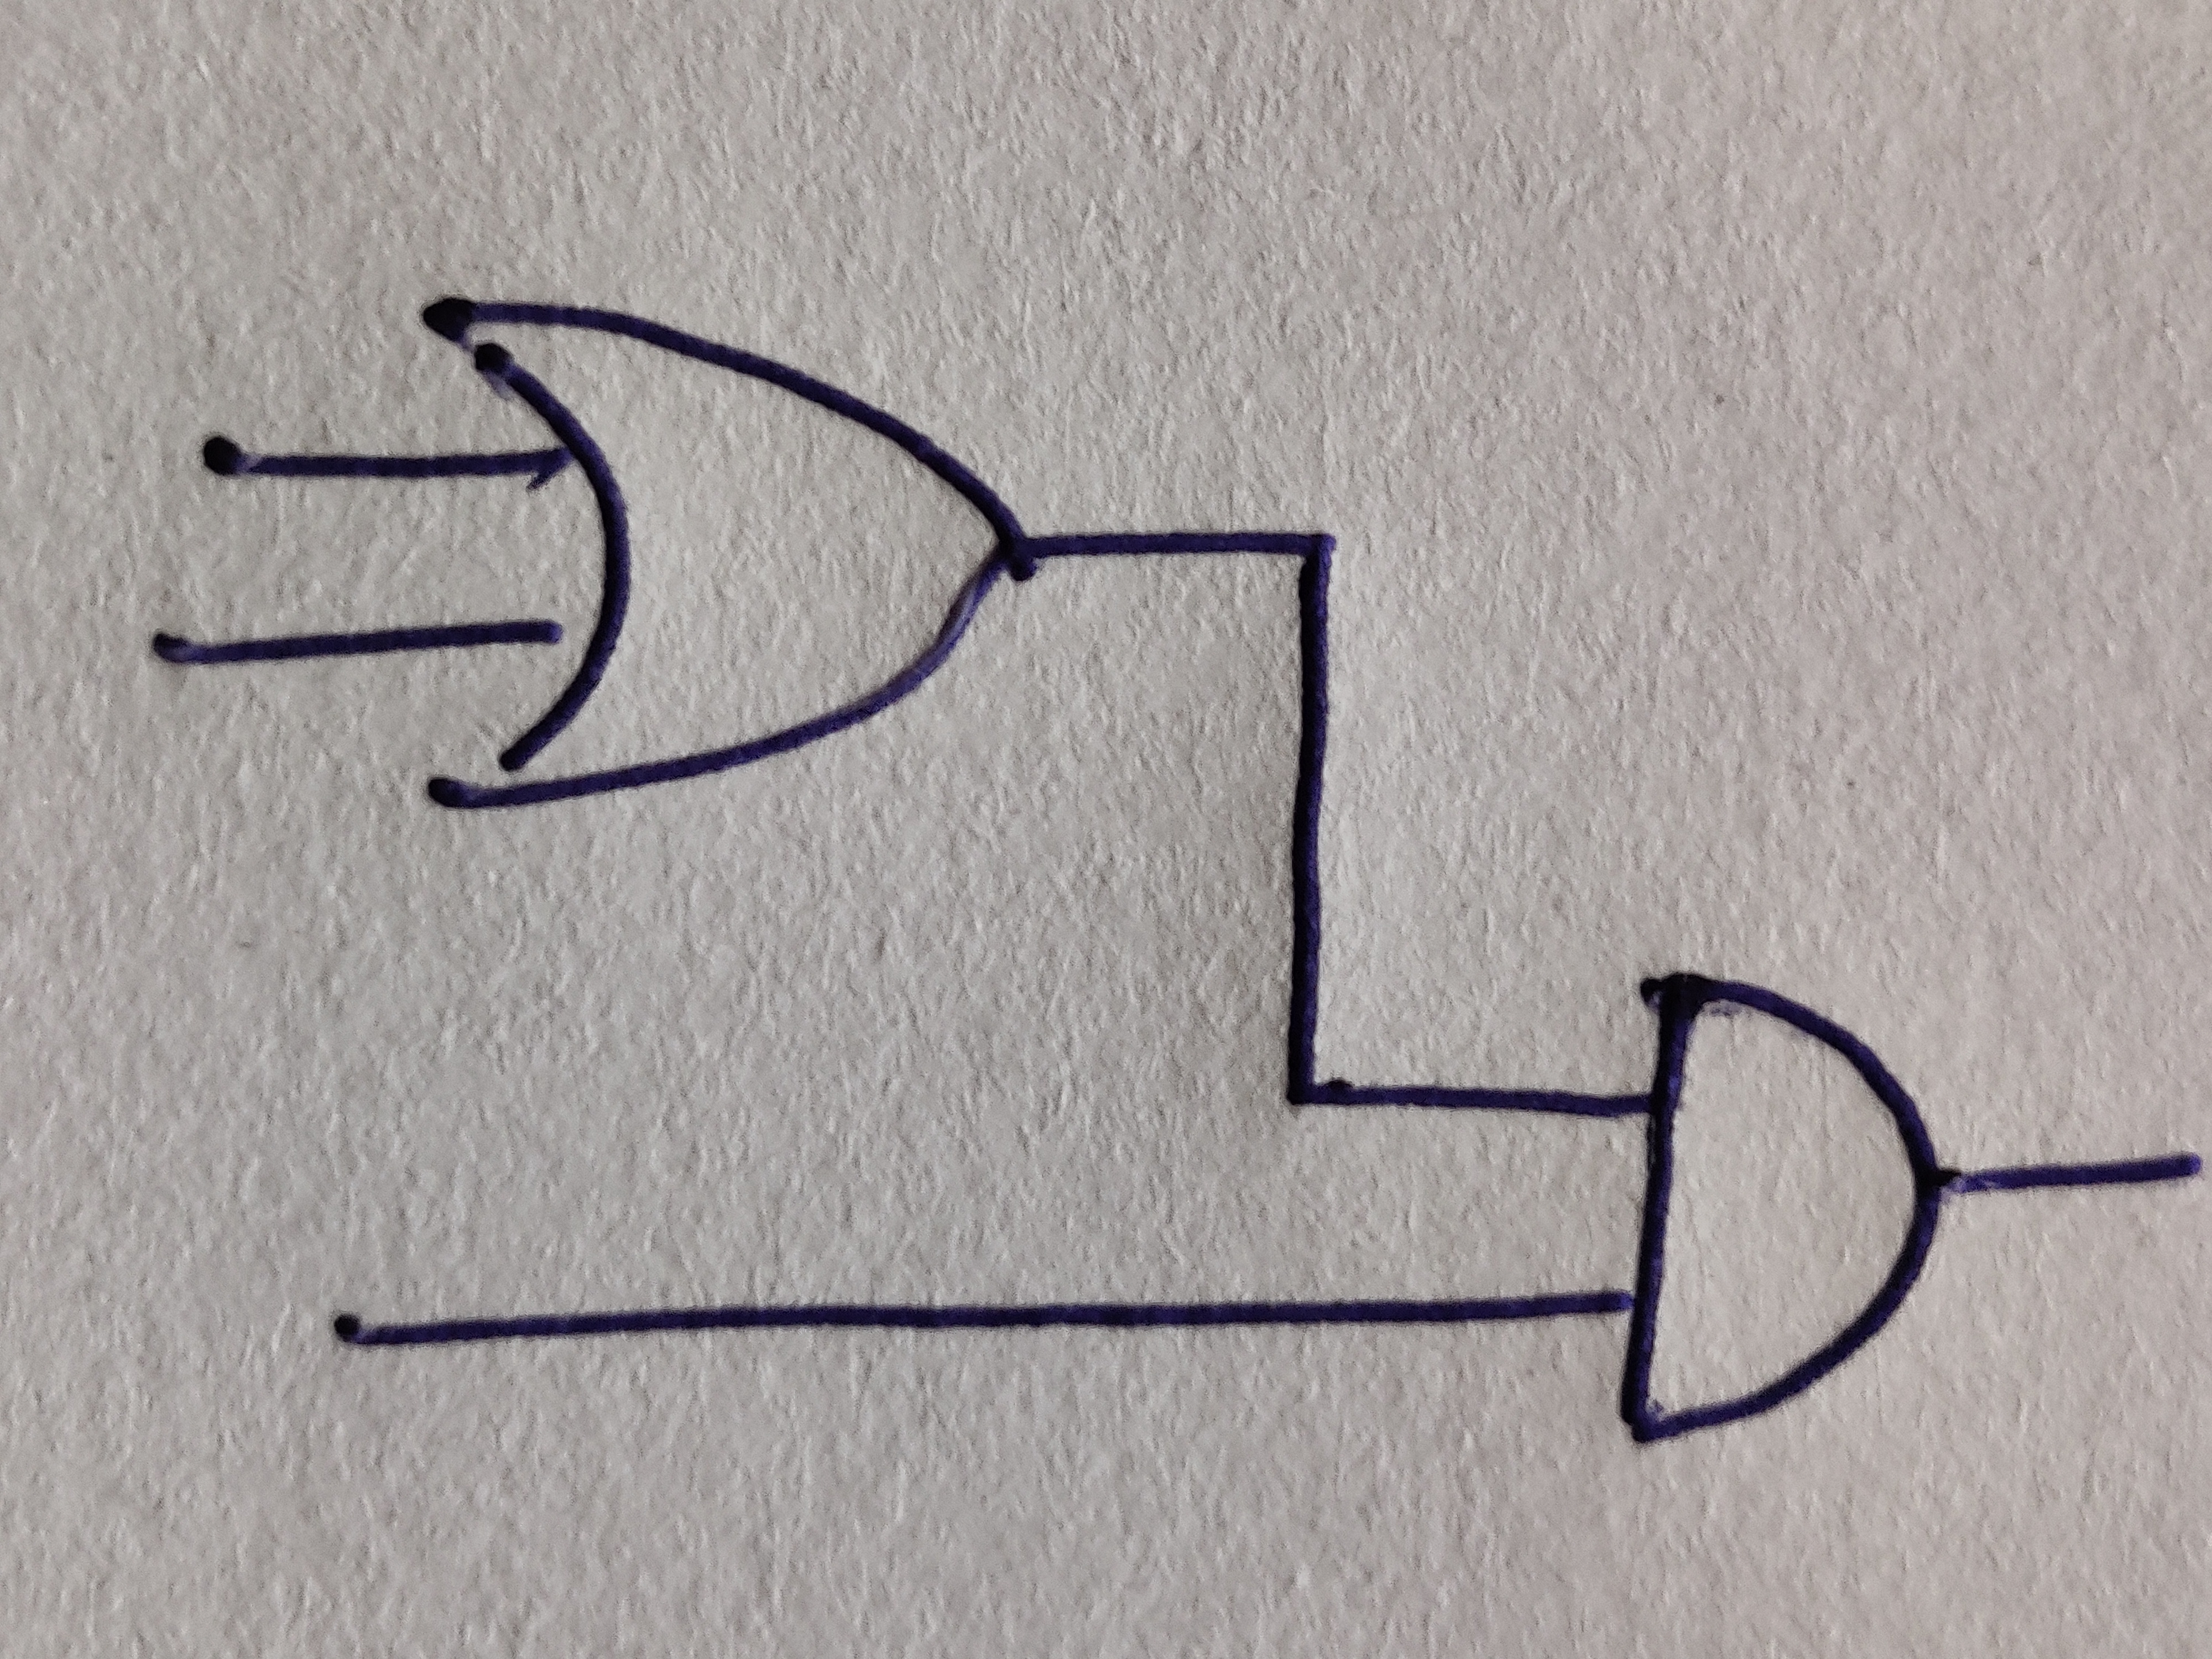and: (1623, 974, 1939, 1446)
or: (423, 298, 1038, 810)
